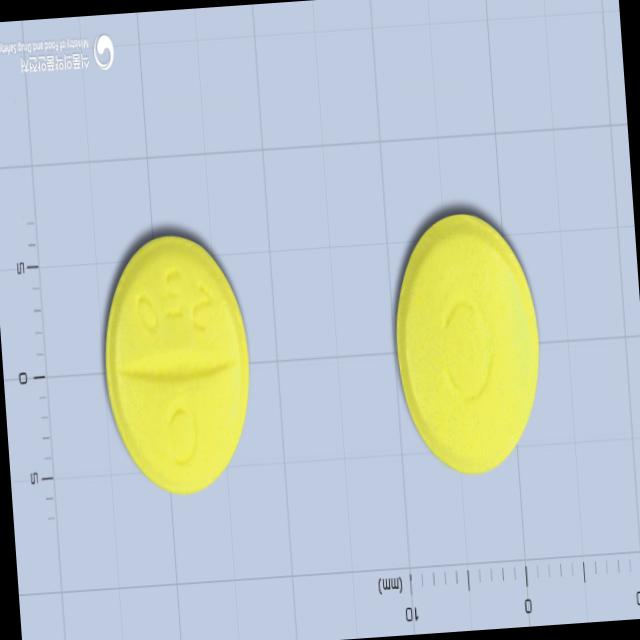Amocla: (385, 206, 547, 481), (94, 228, 256, 500)
